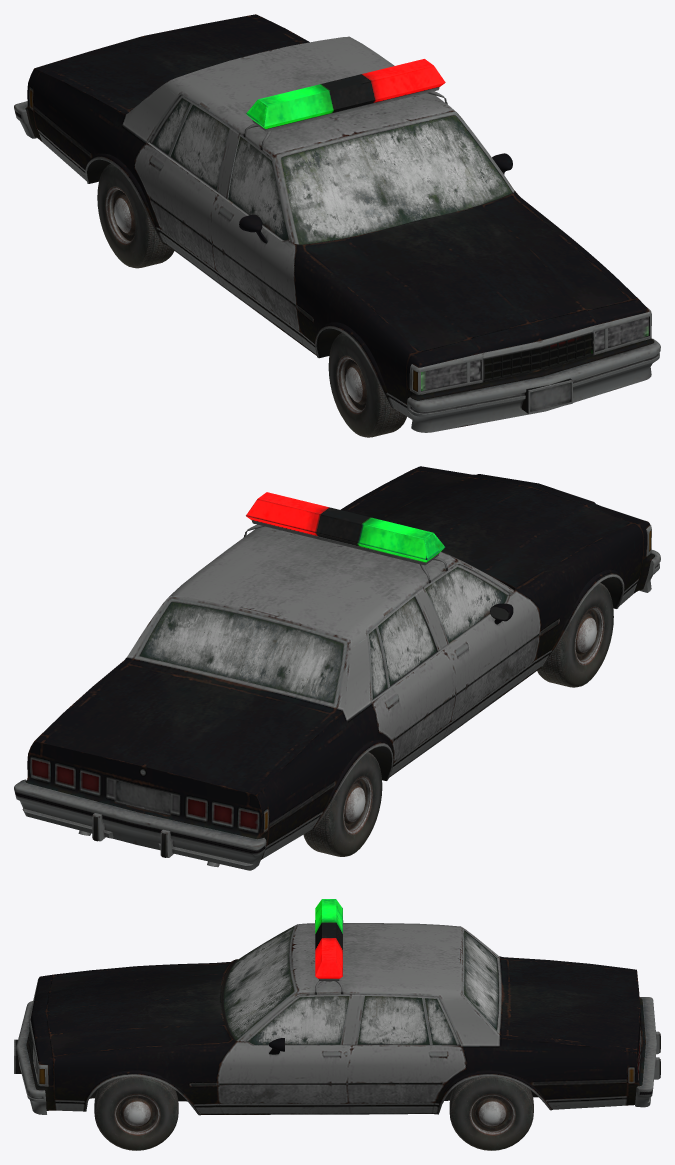
The model's file is policecar.fbx.
The picture shows the model from 3 angles, top to bottom: view 1: azimuth 30°, elevation 25°; view 2: azimuth 150°, elevation 25°; view 3: azimuth 270°, elevation 25°; orthographic projection. The views are drawn at different scales.
Parts seen in each view (by area): view 1: SM_HAD_PoliceCar_01.mo; view 2: SM_HAD_PoliceCar_01.mo; view 3: SM_HAD_PoliceCar_01.mo.
Part boxes in pixels (x1,y1,x2,y2): SM_HAD_PoliceCar_01.mo: (14,14,660,437); SM_HAD_PoliceCar_01.mo: (14,466,660,870); SM_HAD_PoliceCar_01.mo: (14,899,660,1150).
Bounding box in the file's own units: 234 × 192 × 631.
